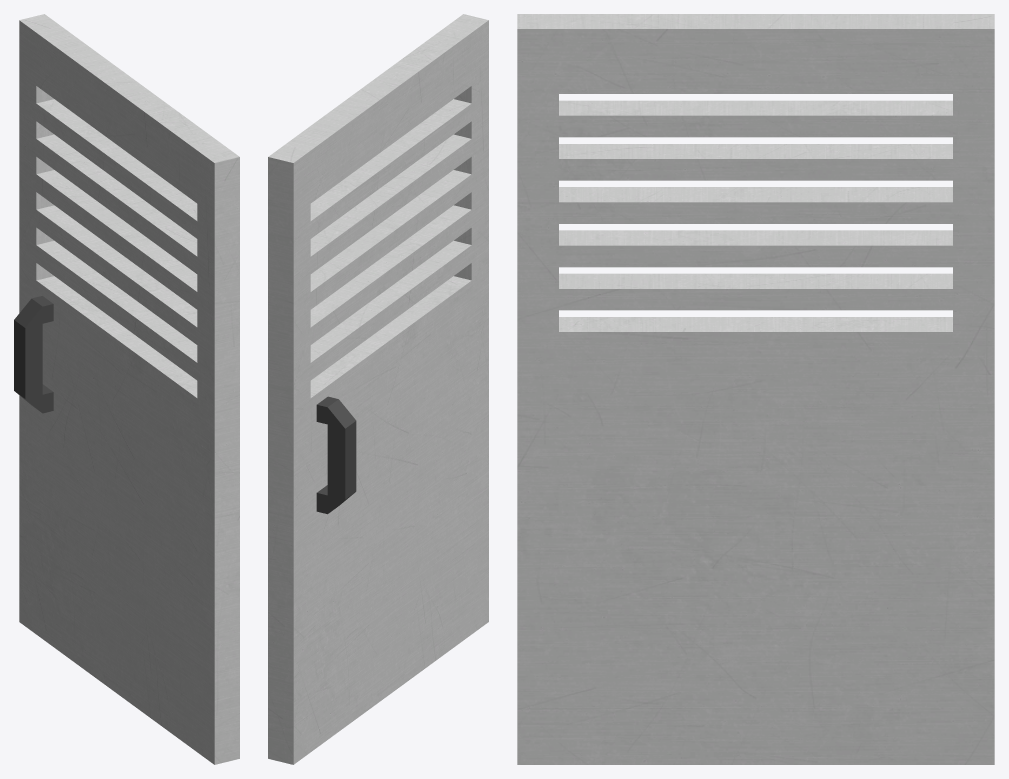
Rendered from LockerDoor.fbx.
The picture shows the model from 3 angles, left to right: view 1: azimuth 30°, elevation 25°; view 2: azimuth 150°, elevation 25°; view 3: azimuth 270°, elevation 25°; orthographic projection. The views are drawn at different scales.
Parts seen in each view (by area): view 1: LockerDoor; view 2: LockerDoor; view 3: LockerDoor.
Part boxes in pixels (x1=…): LockerDoor: x1=14, y1=14, x2=239, y2=764; LockerDoor: x1=268, y1=14, x2=488, y2=764; LockerDoor: x1=517, y1=14, x2=994, y2=764.
Bounding box in the file's own units: 200 × 31.82 × 340.
